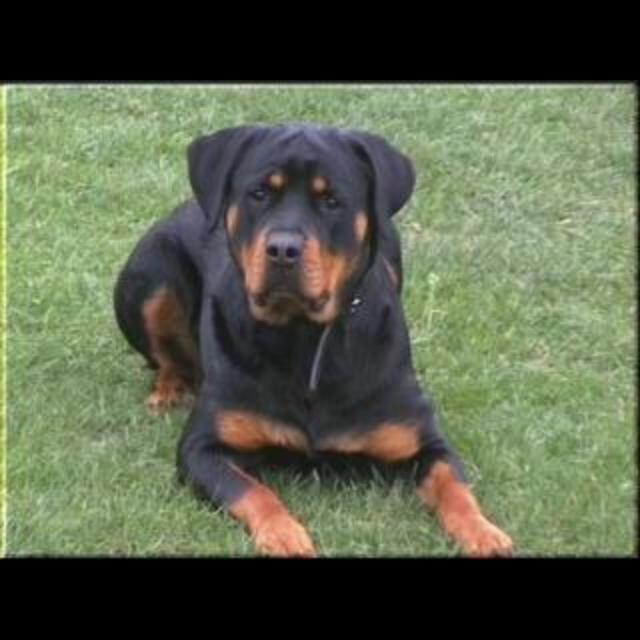rottweiler: (113, 123, 515, 559)
